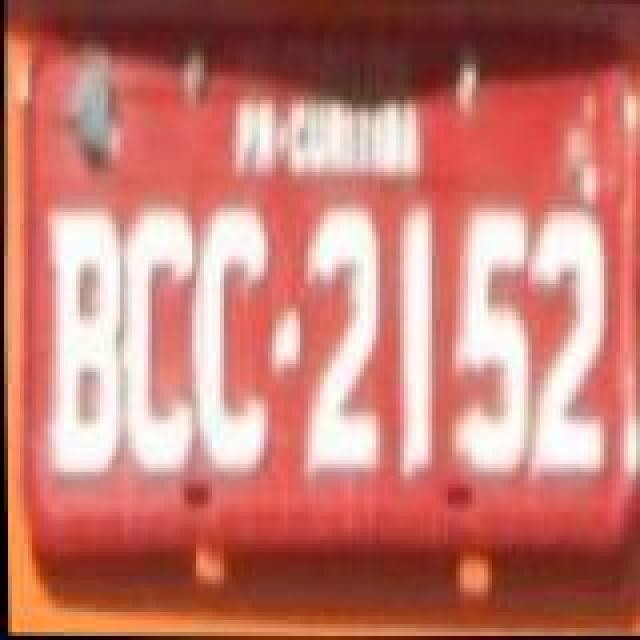1: (394, 202, 438, 486)
2: (530, 204, 614, 484), (306, 204, 390, 480)
5: (448, 202, 536, 486)
B: (40, 202, 128, 494)
C: (194, 200, 278, 480), (120, 202, 200, 482)
